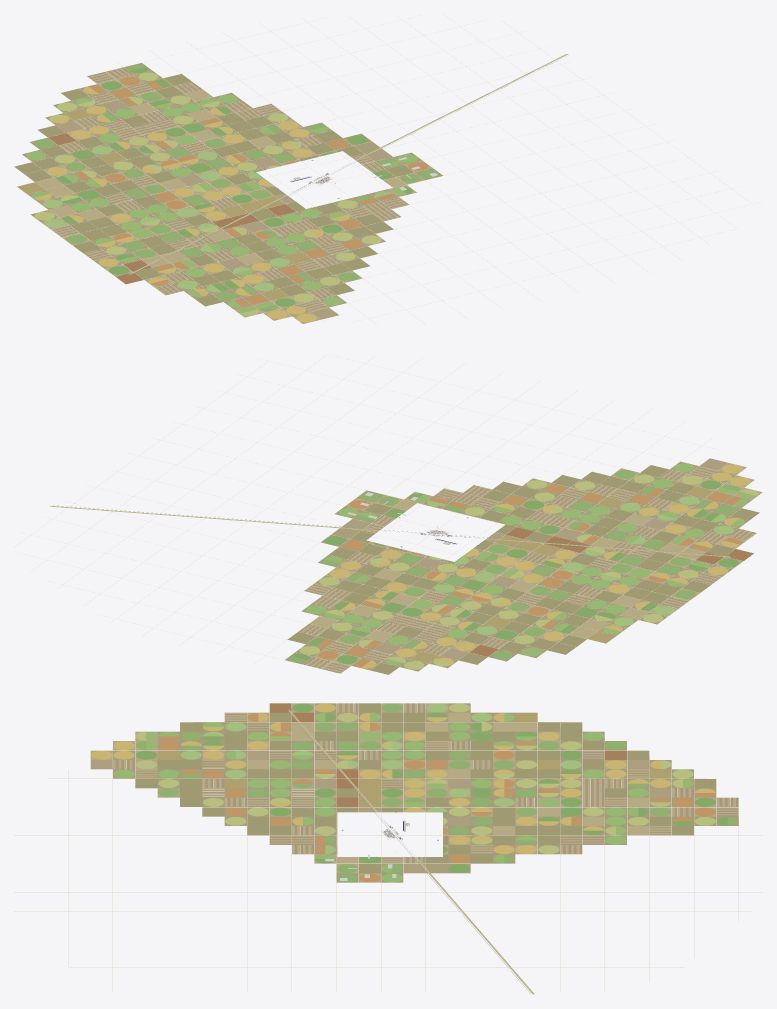
The model's file is land.glb.
3 renders of one model, top to bottom at view 1: azimuth 30°, elevation 25°; view 2: azimuth 150°, elevation 25°; view 3: azimuth 270°, elevation 25°, orthographic. The views are drawn at different scales.
Visible parts, largest first — view 1: decal-sections, decal-pivots, decal-pivot-halves, decal-roads, decal-rail-bed; view 2: decal-sections, decal-pivots, decal-pivot-halves, decal-roads, decal-rail-bed; view 3: decal-sections, decal-pivots, decal-roads, decal-pivot-halves, decal-rail-bed.
Boxes of the visible parts, bbox=[...] form: decal-sections: bbox=[14, 63, 442, 323]; decal-pivots: bbox=[26, 64, 438, 322]; decal-pivot-halves: bbox=[32, 67, 412, 315]; decal-roads: bbox=[24, 14, 760, 324]; decal-rail-bed: bbox=[130, 54, 567, 274]; decal-sections: bbox=[285, 458, 762, 674]; decal-pivots: bbox=[289, 463, 756, 669]; decal-pivot-halves: bbox=[290, 487, 758, 667]; decal-roads: bbox=[14, 355, 753, 670]; decal-rail-bed: bbox=[50, 506, 730, 557]; decal-sections: bbox=[90, 703, 738, 882]; decal-pivots: bbox=[91, 703, 738, 882]; decal-roads: bbox=[14, 704, 762, 991]; decal-pivot-halves: bbox=[136, 713, 727, 872]; decal-rail-bed: bbox=[288, 710, 534, 994].
Bounding box in the file's own units: 81478 × 230 × 88440.
